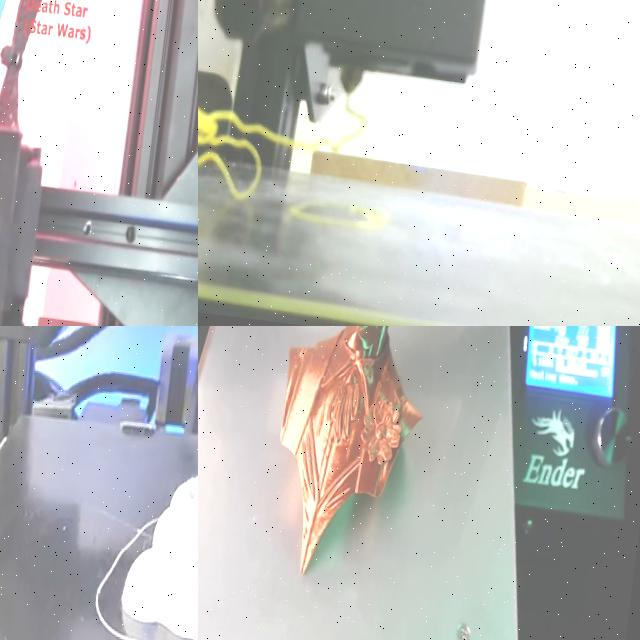spaghetti: (198, 92, 367, 200)
